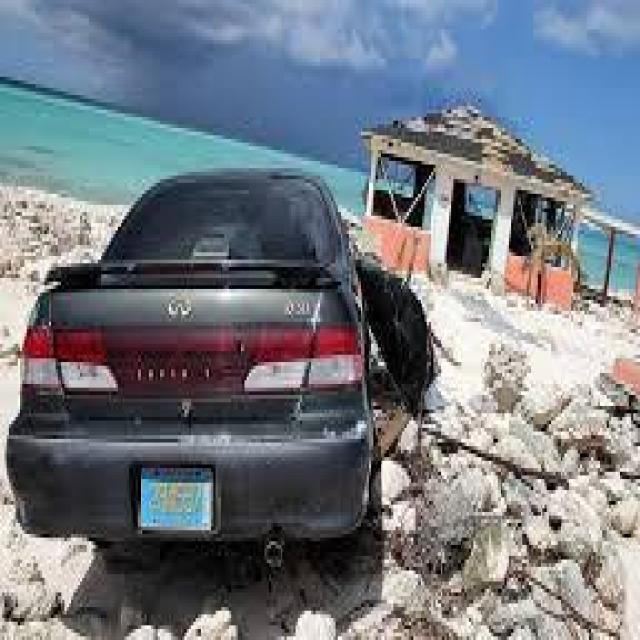damaged: (344, 252, 442, 436)
